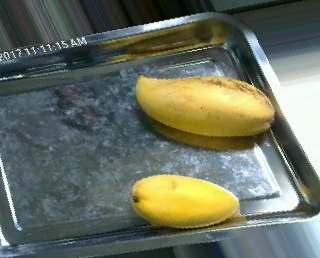Mango: (133, 68, 279, 142), (131, 168, 243, 229)
